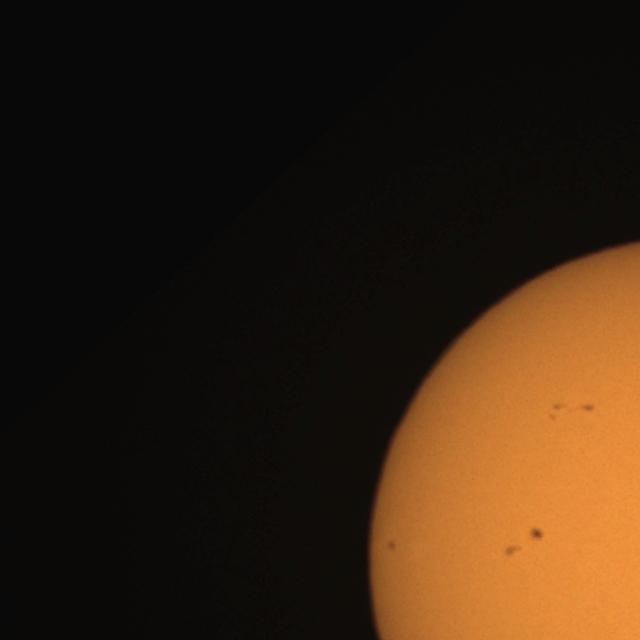sunspot: (503, 527, 544, 557), (546, 401, 595, 421), (548, 401, 568, 422), (504, 542, 523, 558), (528, 526, 545, 542), (580, 402, 596, 414), (386, 538, 398, 553)
